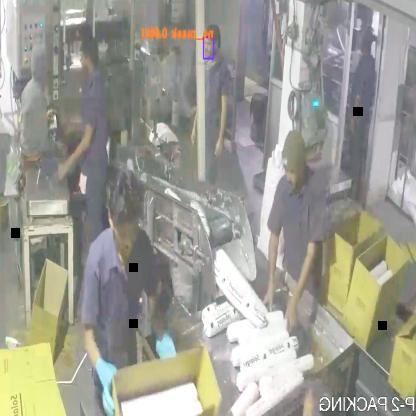glove: (74, 312, 124, 416), (140, 292, 185, 376)
no_glove: (283, 228, 328, 341), (52, 115, 100, 187), (260, 218, 290, 315), (212, 86, 232, 167), (190, 82, 206, 154), (347, 82, 361, 147)
